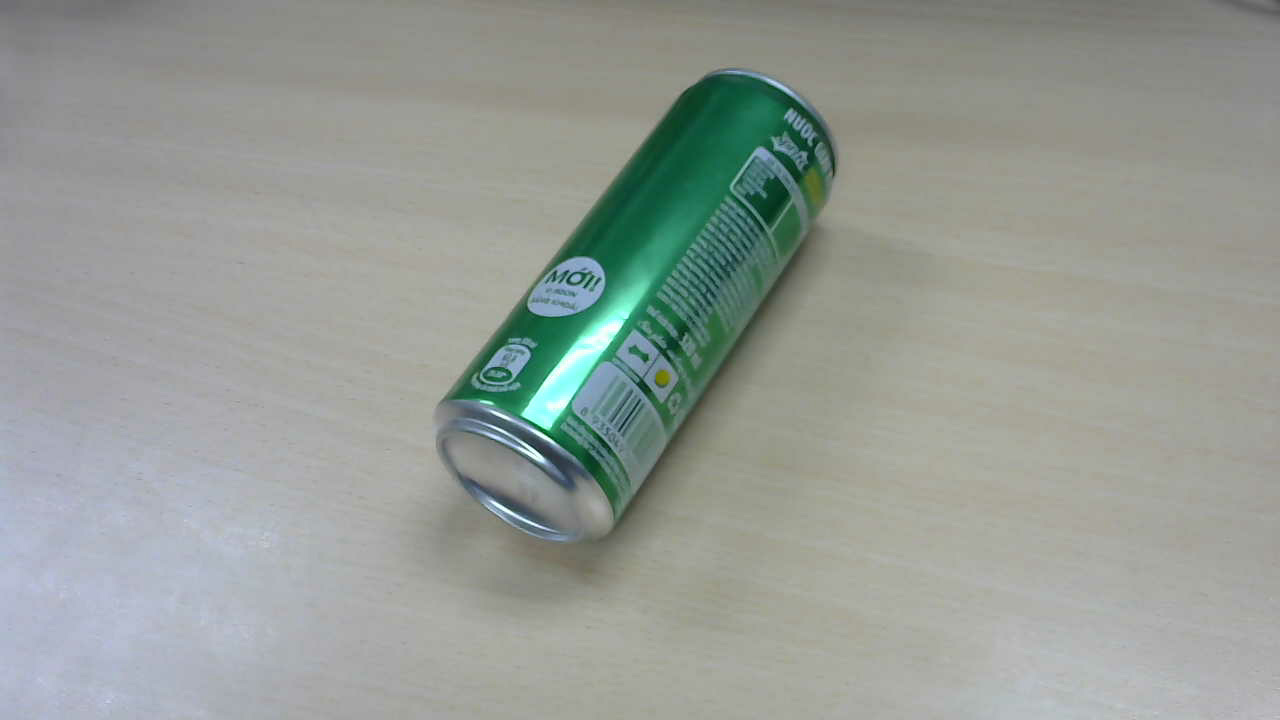Sprite: (436, 78, 847, 553)
